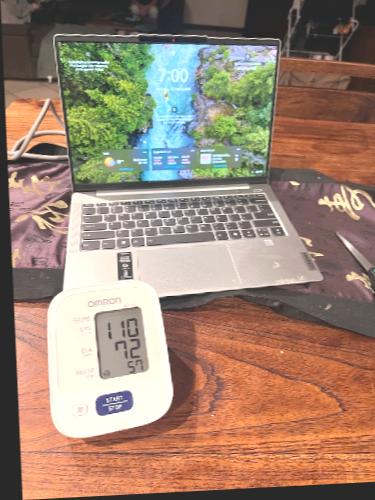bpm: (89, 306, 152, 380)
